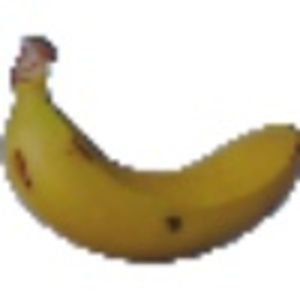banana: (6, 28, 298, 265)
